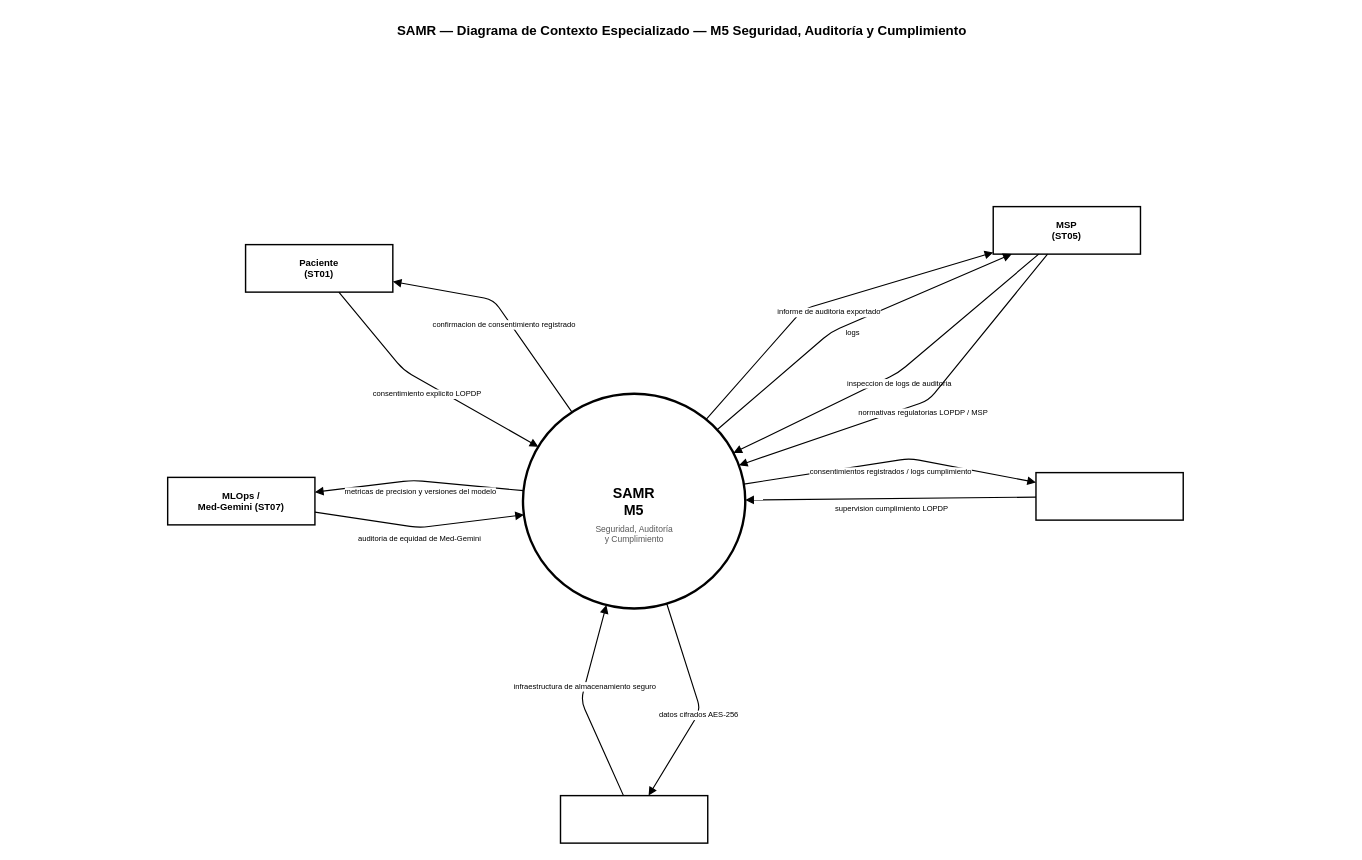
Image size: 1362x860. Some labels were removed from this diagram. Each missing label, with the centre of its shape:
"Cloud GCP (Infraestructura)" goes at pixel 633 818.
"DPO (ST06)" goes at pixel 1109 495.
